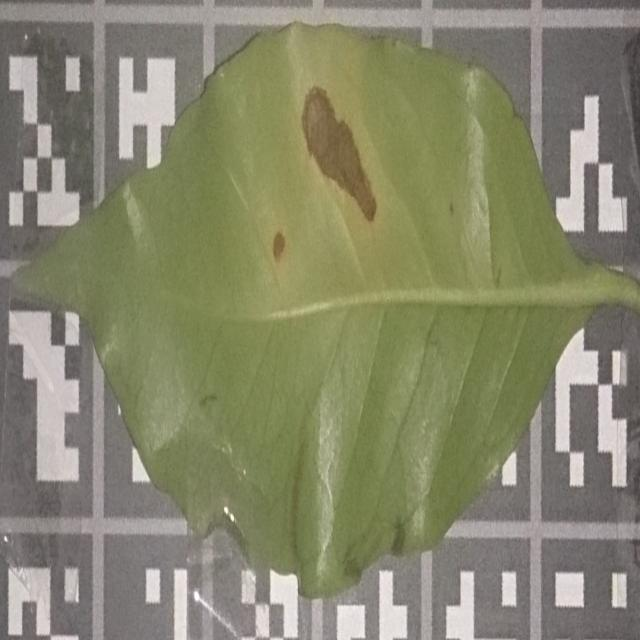Enfermedad-Mancha-de-hierro: (12, 24, 640, 600)
